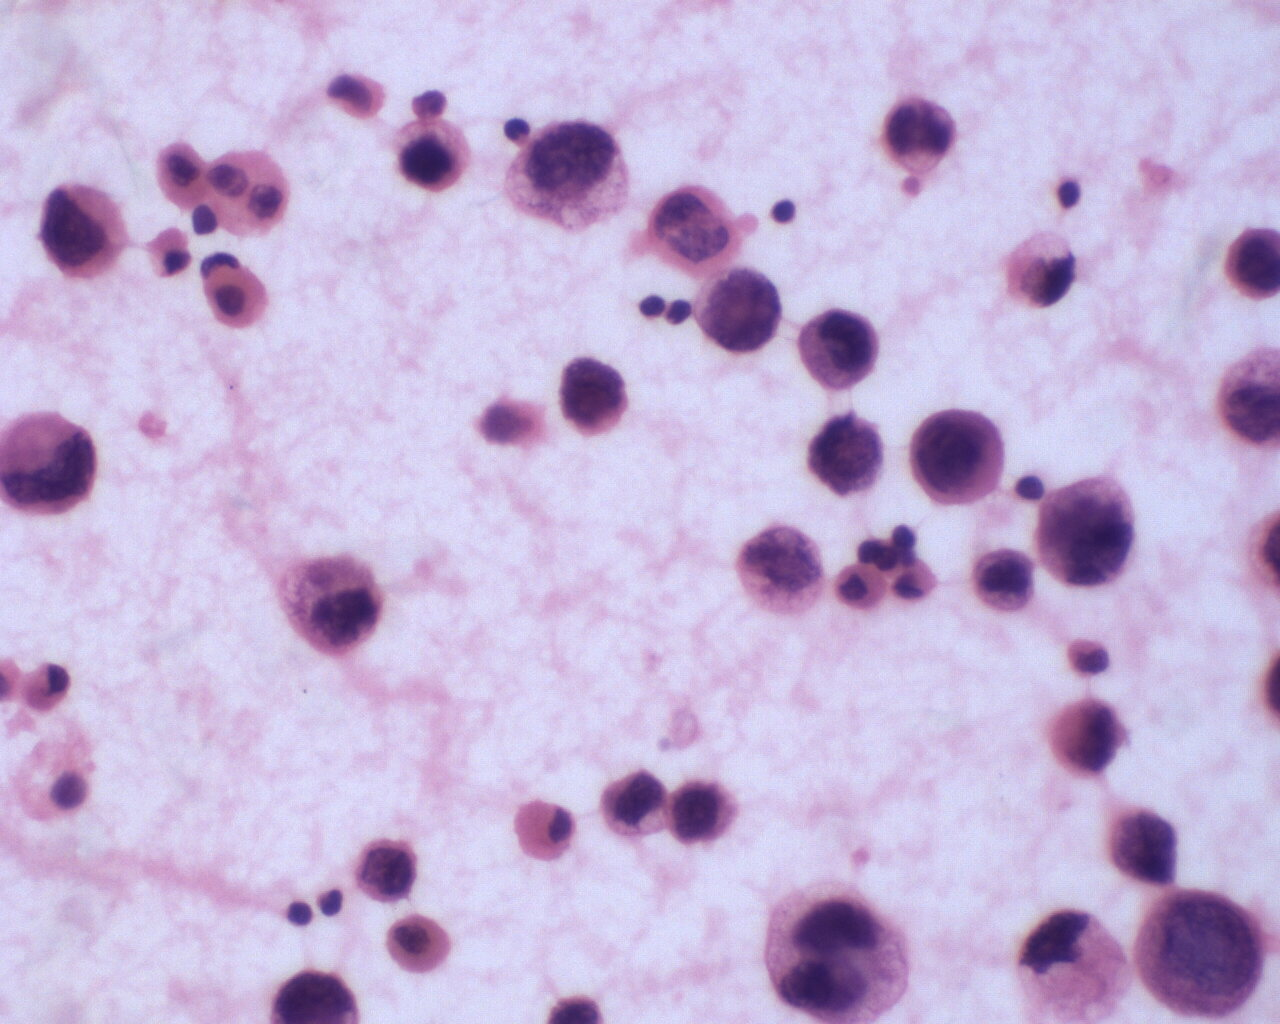ab: (759, 881, 918, 1024), (1133, 883, 1266, 1023), (1030, 476, 1148, 594), (276, 545, 391, 665), (1, 409, 104, 521), (909, 398, 1010, 509), (37, 174, 133, 281), (1101, 791, 1193, 891), (691, 267, 786, 360), (1045, 695, 1139, 783), (385, 114, 471, 206), (877, 91, 962, 180), (557, 347, 634, 442), (800, 300, 878, 394), (345, 822, 426, 910), (809, 410, 889, 497), (661, 772, 738, 851), (383, 906, 459, 979), (597, 769, 673, 841), (972, 543, 1039, 614)
lymph: (498, 111, 535, 152), (763, 194, 802, 230), (1049, 173, 1086, 211)
meso: (199, 263, 274, 333), (508, 796, 582, 864)
